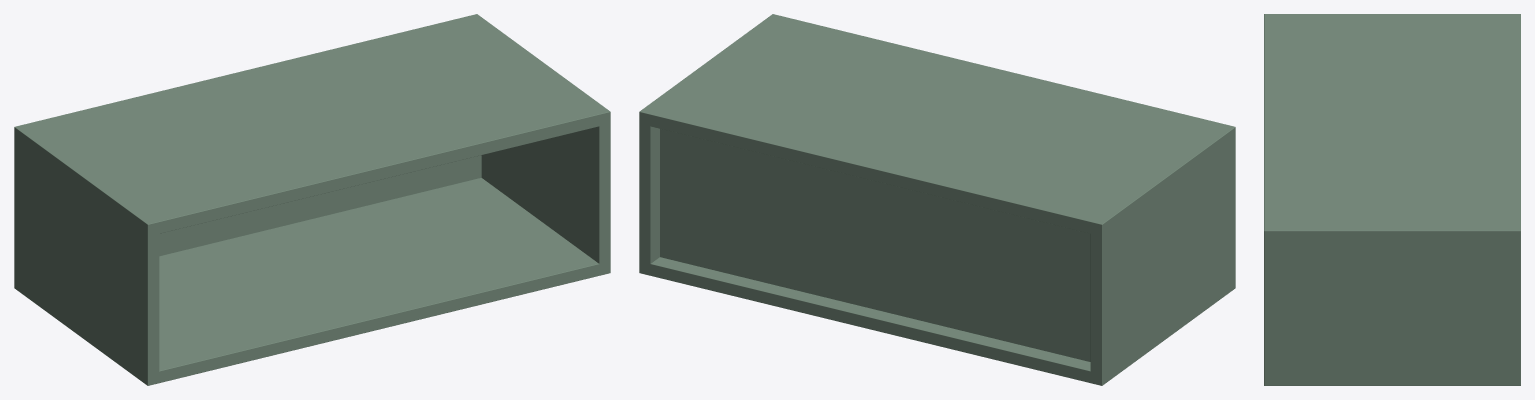
Rendered from MOD_2X07_A_B_VA.glb.
3 views of the same model, side by side, from view 1: azimuth 30°, elevation 25°; view 2: azimuth 150°, elevation 25°; view 3: azimuth 270°, elevation 25° (orthographic). The views are drawn at different scales.
Size of the model in its own units: 720 by 240 by 360.
